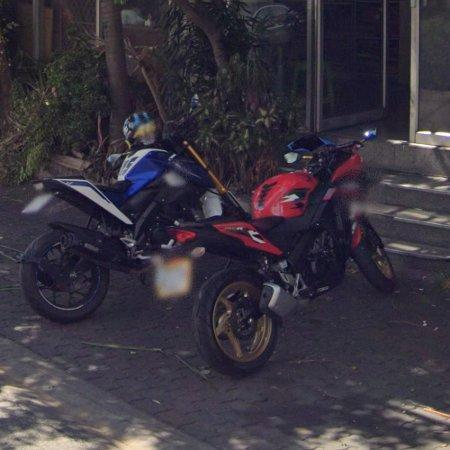motorcycles: (170, 135, 396, 375), (21, 114, 244, 323)
